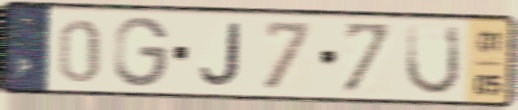0: (56, 16, 108, 84)
7: (341, 19, 397, 97), (262, 19, 314, 94)
G: (111, 14, 172, 90)
J: (196, 20, 243, 89)
U: (402, 22, 463, 99)
